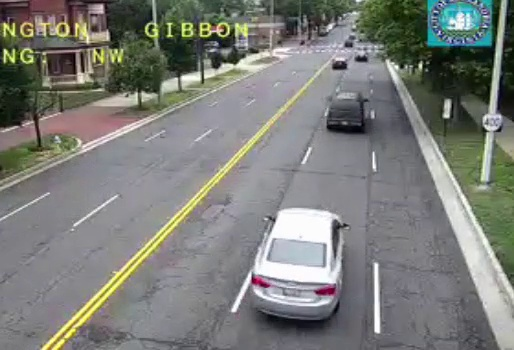car: (252, 207, 346, 321), (327, 92, 364, 129)
